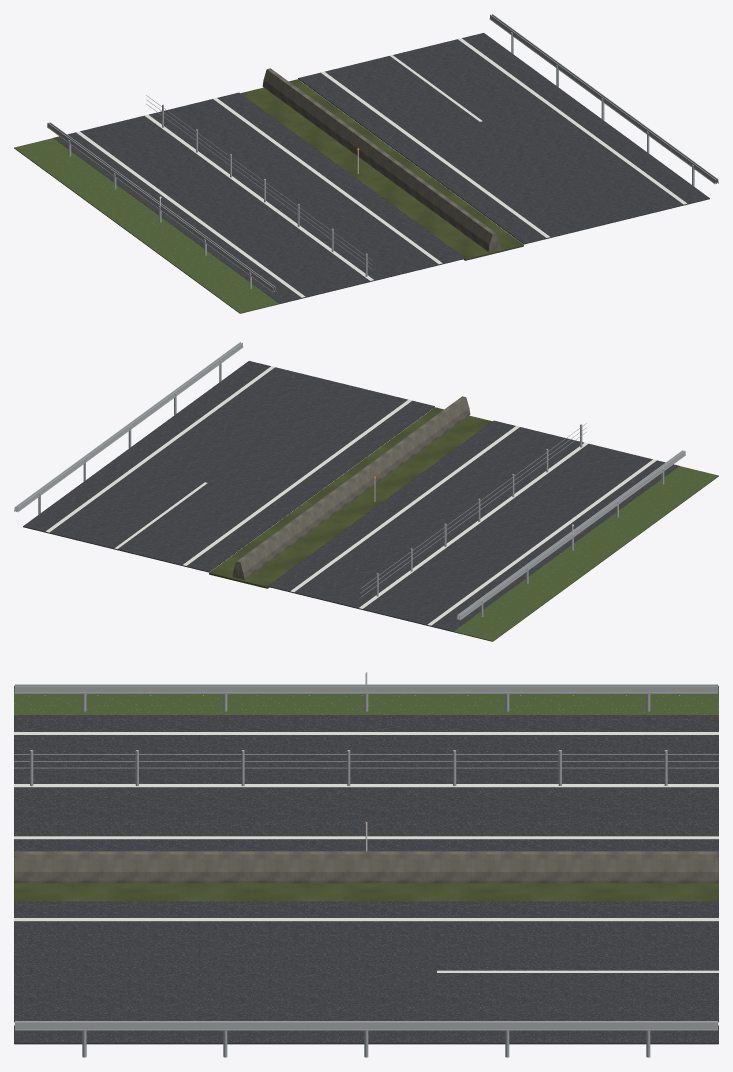
3 renders of one model, top to bottom at view 1: azimuth 30°, elevation 25°; view 2: azimuth 150°, elevation 25°; view 3: azimuth 270°, elevation 25°, orthographic. The views are drawn at different scales.
Parts seen in each view (by area): view 1: opt_section_four, opt_section_two, jp-roadway-arterial, opt_median_wire, opt_median_line; view 2: opt_section_four, opt_section_two, jp-roadway-arterial, opt_median_wire, opt_median_line; view 3: opt_section_four, opt_section_two, jp-roadway-arterial, opt_median_wire, opt_median_line.
Part boxes in pixels (<box>): opt_section_four: <box>47,14,718,297</box>; opt_section_two: <box>53,92,465,303</box>; jp-roadway-arterial: <box>14,138,279,313</box>; opt_median_wire: <box>146,95,372,276</box>; opt_median_line: <box>144,114,373,280</box>; opt_section_four: <box>14,342,685,625</box>; opt_section_two: <box>267,420,679,631</box>; jp-roadway-arterial: <box>453,466,718,641</box>; opt_median_wire: <box>360,423,586,597</box>; opt_median_line: <box>359,442,588,608</box>; opt_section_four: <box>14,684,718,1057</box>; opt_section_two: <box>14,670,718,857</box>; jp-roadway-arterial: <box>14,685,718,714</box>; opt_median_wire: <box>14,750,718,786</box>; opt_median_line: <box>14,784,718,787</box>.
Bounding box in the file's own units: 24.47 × 1.55 × 20.
Materials: 11 (4 with a texture image).
